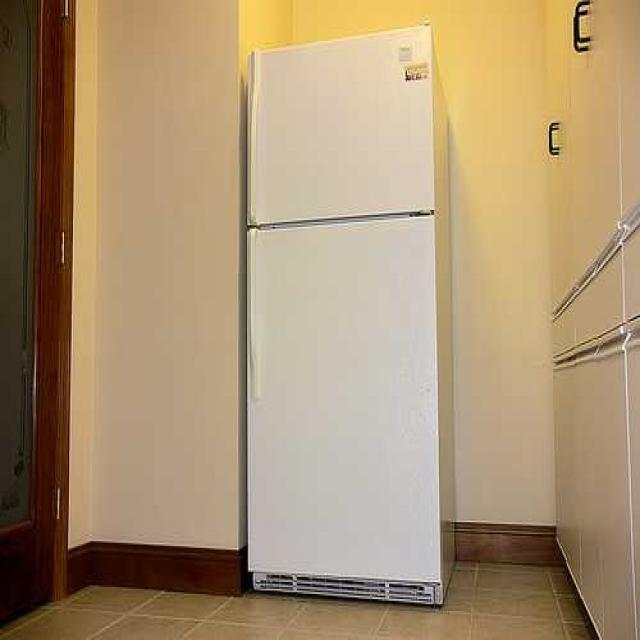refrigerator: (239, 11, 445, 618)
